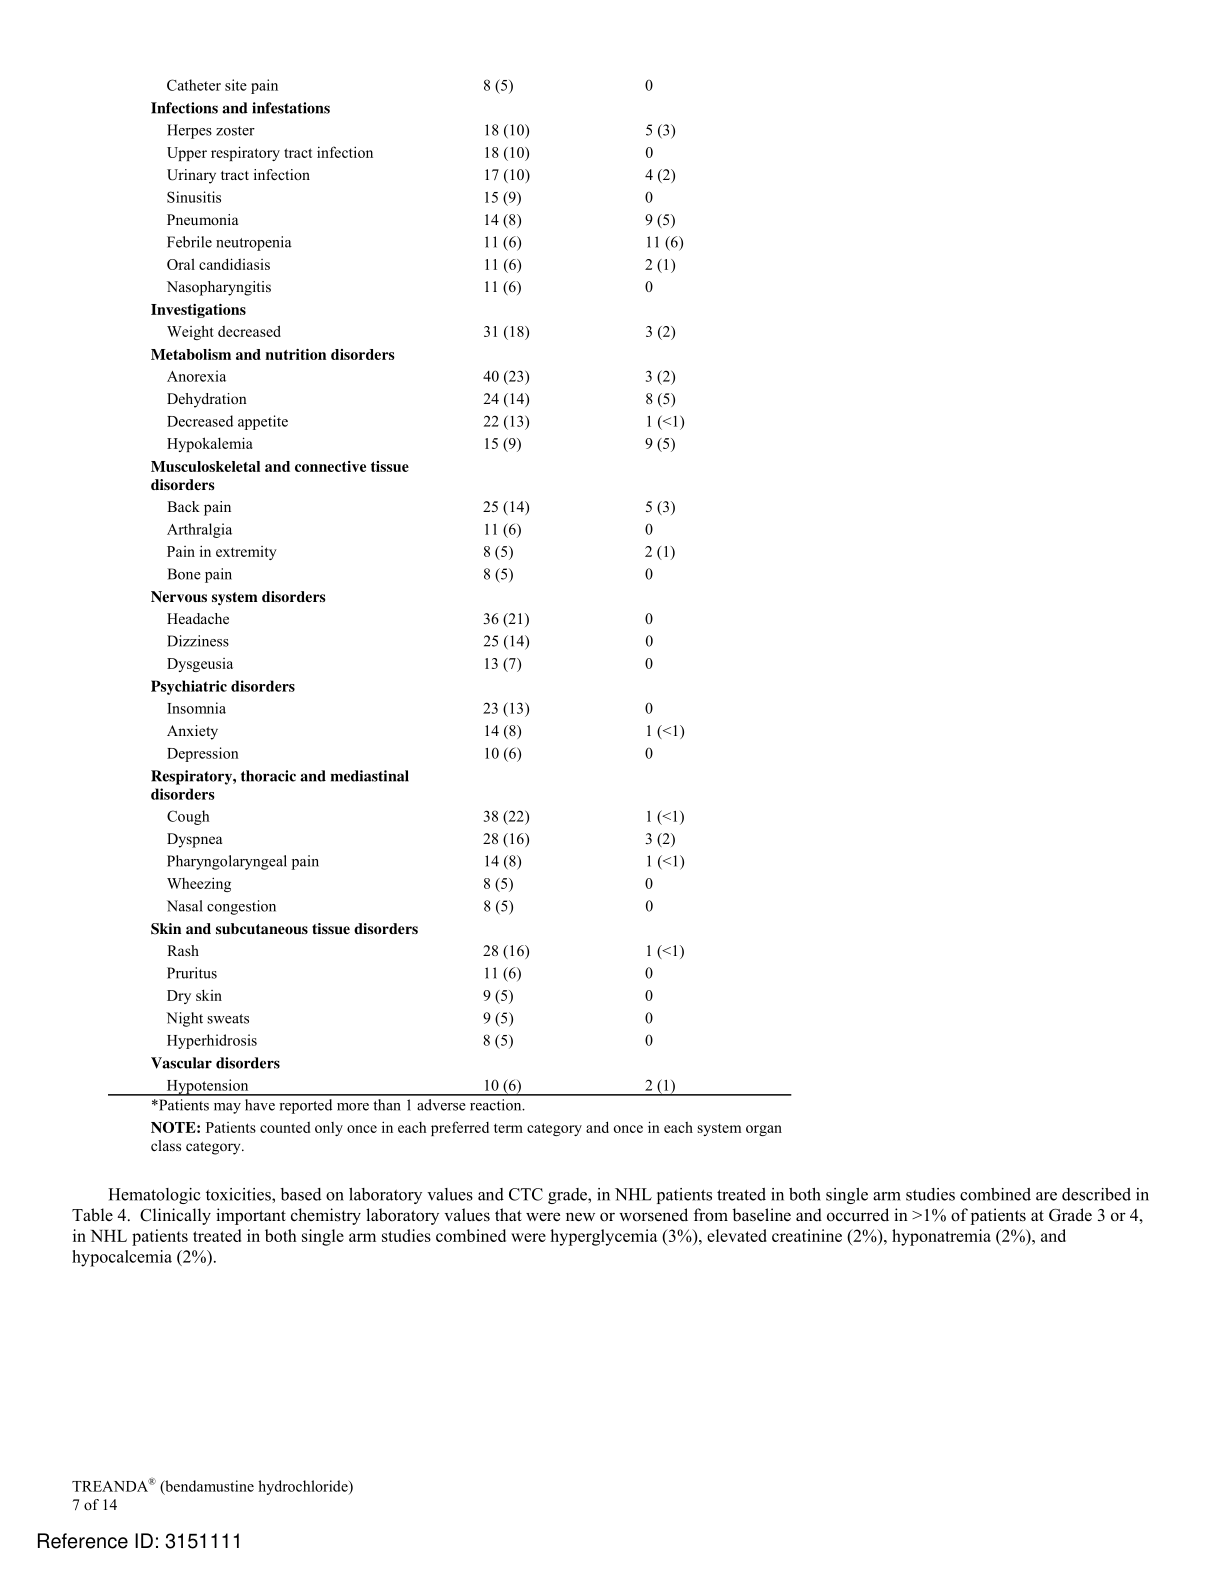nolines: (141, 73, 690, 1093)
